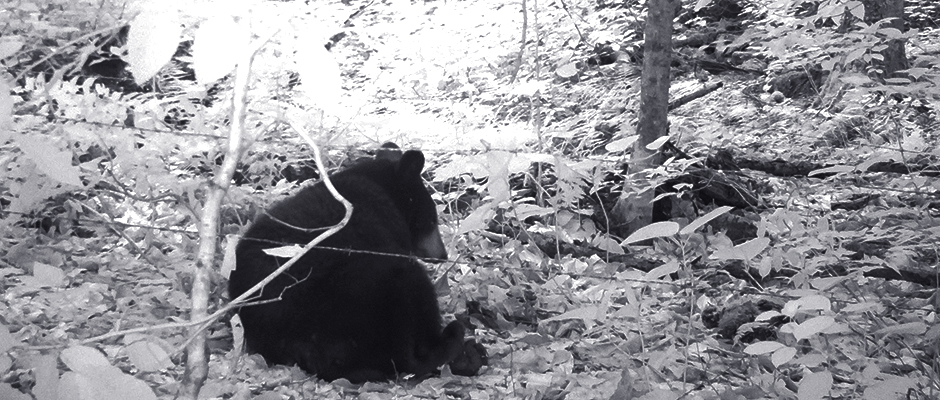bear: (191, 108, 498, 400)
